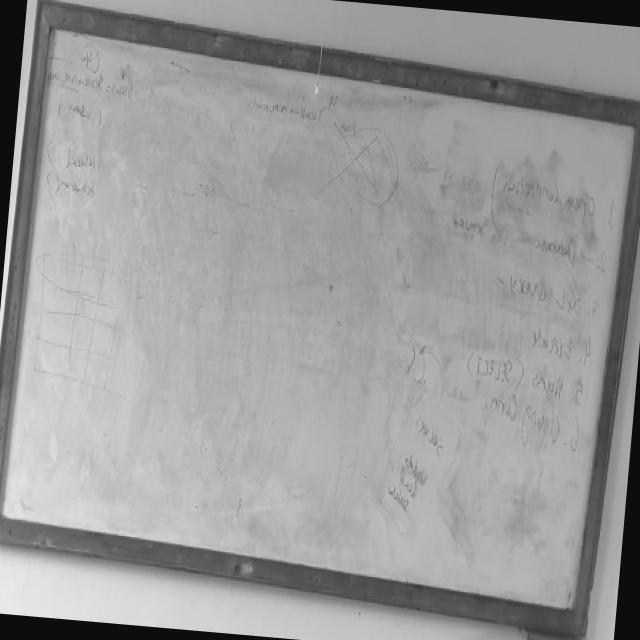White-board: (0, 11, 640, 622)
